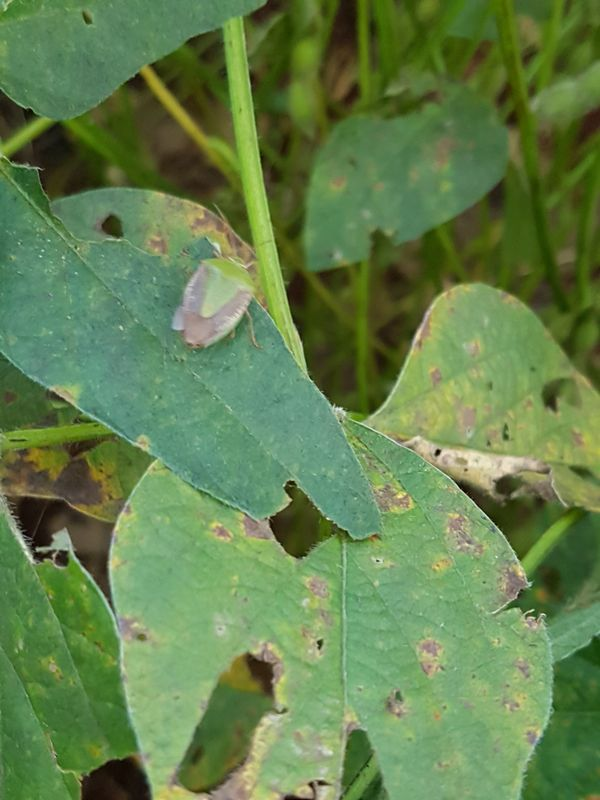Edessa_meditabunda: (162, 230, 273, 362)
